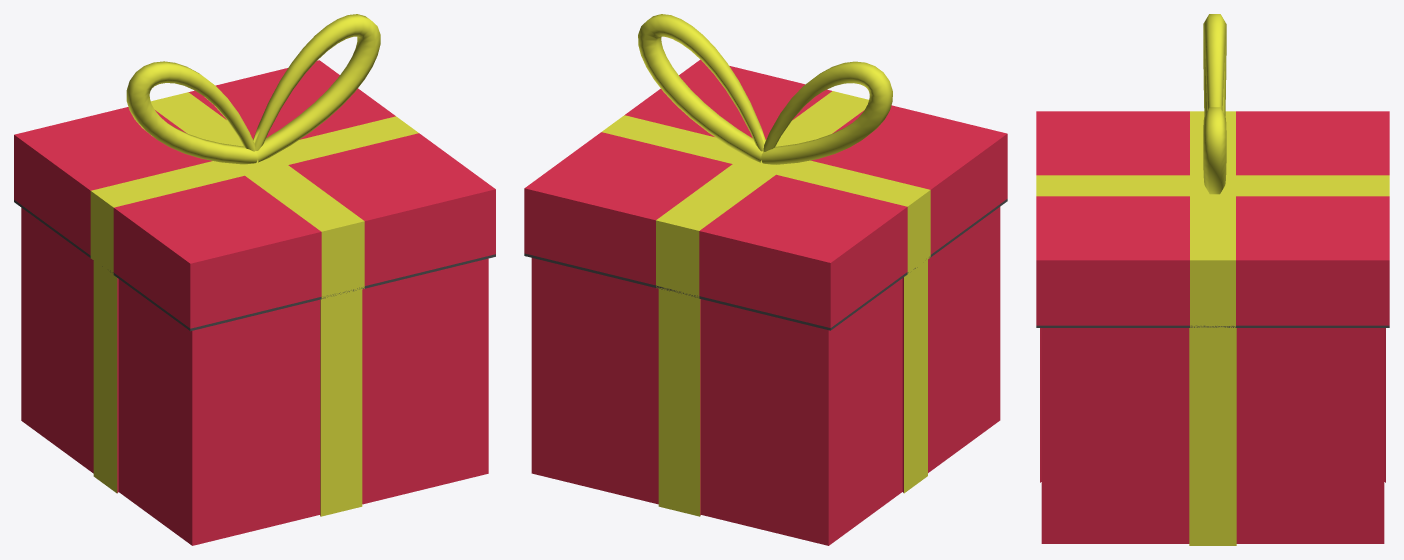
Rendered from PapaiNoel.glb.
3 renders of one model, left to right at view 1: azimuth 30°, elevation 25°; view 2: azimuth 150°, elevation 25°; view 3: azimuth 270°, elevation 25°, orthographic.
Parts seen in each view (by area): view 1: Cube, Cube.001; view 2: Cube, Cube.001; view 3: Cube.001, Cube.
Part boxes in pixels (x1,y1,x2,y2): Cube: [21, 208, 488, 545]; Cube.001: [14, 14, 495, 331]; Cube: [531, 207, 1000, 545]; Cube.001: [524, 14, 1007, 330]; Cube.001: [1036, 14, 1389, 327]; Cube: [1040, 328, 1385, 545].
Size of what is drawn, in the model's own units: 2 by 2.55 by 2.
